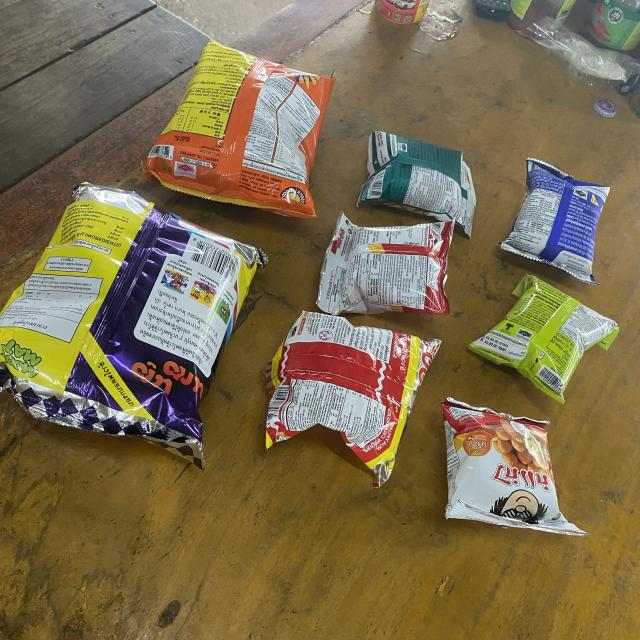plastik: (0, 183, 257, 468), (145, 41, 334, 218), (266, 312, 441, 487), (442, 398, 588, 536), (469, 275, 619, 403), (316, 213, 454, 315), (500, 158, 610, 282), (358, 131, 476, 237)
